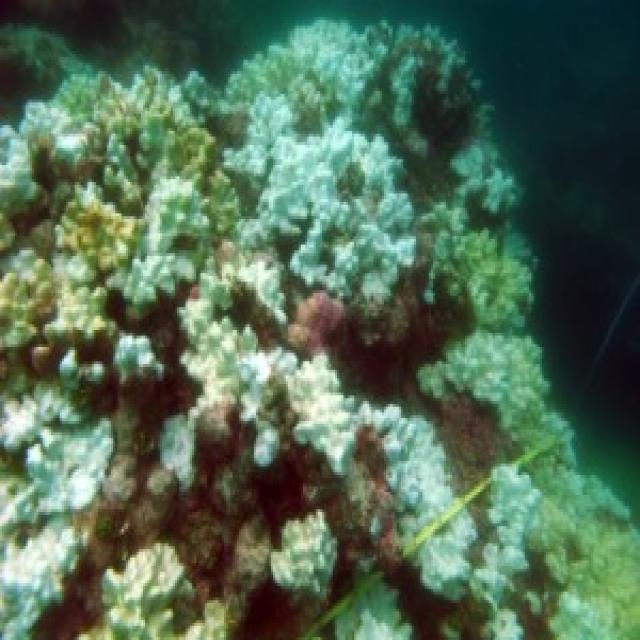Bleached: (1, 21, 639, 638), (56, 138, 84, 155)
